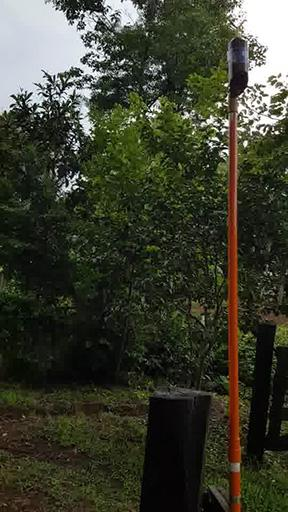Detector_Tensao_Contato: (226, 16, 250, 99)
Vara_Manobra: (226, 98, 242, 512)
